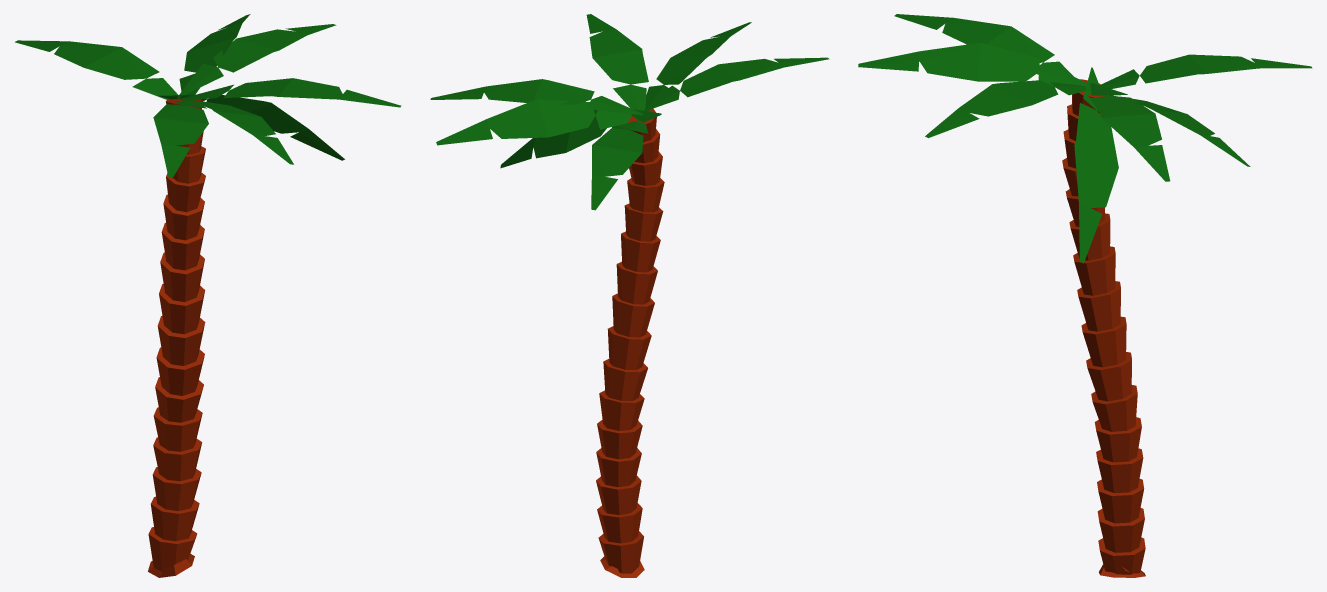
The model's file is palmaOK.fbx.
3 views of the same model, side by side, from view 1: azimuth 30°, elevation 25°; view 2: azimuth 150°, elevation 25°; view 3: azimuth 270°, elevation 25° (orthographic). The views are drawn at different scales.
Visible parts, largest first — view 1: Cubo, Piano, Piano.001, Piano.005, Piano.002, Piano.008, Piano.004, Piano.009; view 2: Cubo, Piano.004, Piano.005, Piano.001, Piano, Piano.002, Piano.009, Piano.008; view 3: Cubo, Piano.009, Piano.008, Piano.001, Piano.005, Piano.002, Piano, Piano.004.
Boxes of the visible parts, x1,y1,x2,y2 form: Cubo: [148, 98, 205, 577]; Piano: [15, 40, 178, 99]; Piano.001: [177, 24, 336, 97]; Piano.005: [179, 78, 401, 107]; Piano.002: [153, 100, 208, 177]; Piano.008: [158, 95, 344, 160]; Piano.004: [179, 14, 250, 95]; Piano.009: [178, 98, 293, 164]; Cubo: [596, 108, 664, 577]; Piano.004: [436, 99, 631, 145]; Piano.005: [586, 14, 648, 110]; Piano.001: [430, 79, 643, 115]; Piano: [591, 121, 648, 210]; Piano.002: [652, 57, 829, 108]; Piano.009: [637, 22, 751, 120]; Piano.008: [500, 109, 661, 168]; Cubo: [1062, 79, 1145, 577]; Piano.009: [858, 42, 1086, 86]; Piano.008: [1074, 67, 1118, 263]; Piano.001: [1090, 83, 1170, 181]; Piano.005: [925, 80, 1090, 138]; Piano.002: [894, 14, 1073, 76]; Piano: [1100, 54, 1312, 88]; Piano.004: [1111, 95, 1250, 166].
Bounding box in the file's own units: 234 × 385 × 302.
